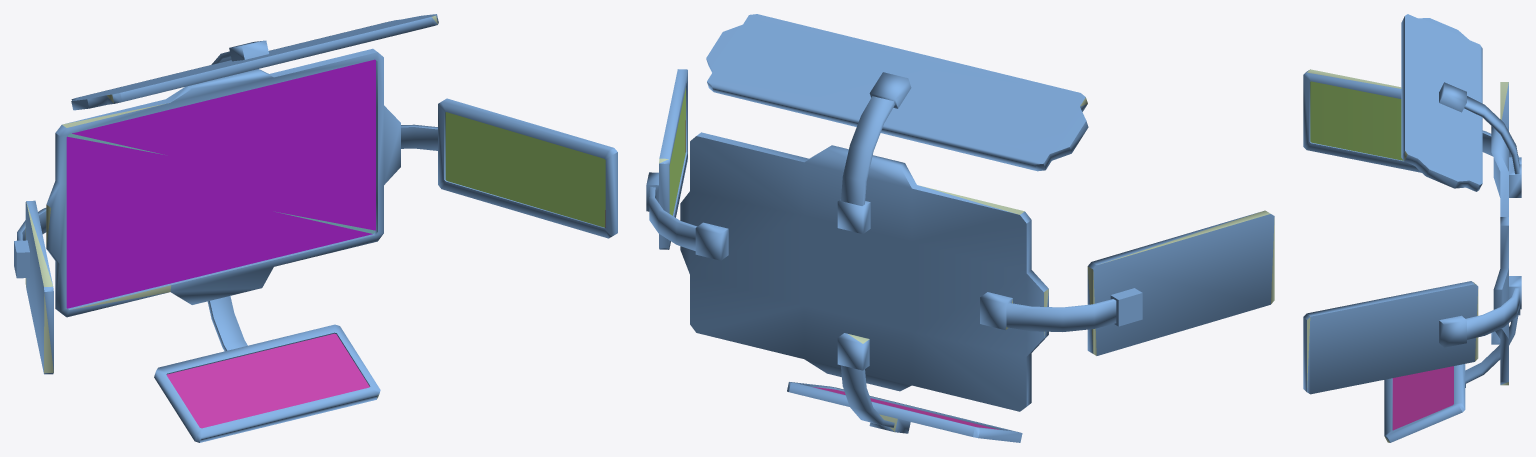
The model's file is 5v1monitor.fbx.
3 renders of one model, left to right at view 1: azimuth 30°, elevation 25°; view 2: azimuth 150°, elevation 25°; view 3: azimuth 270°, elevation 25°, orthographic. The views are drawn at different scales.
Visible parts, largest first — view 1: 000-0-2; view 2: 000-0-2; view 3: 000-0-2.
Boxes of the visible parts, <box> form: 000-0-2: <box>14,14,617,442</box>; 000-0-2: <box>646,14,1274,442</box>; 000-0-2: <box>1303,14,1521,442</box>.
Bounding box in the file's own units: 238 × 143 × 88.38.
